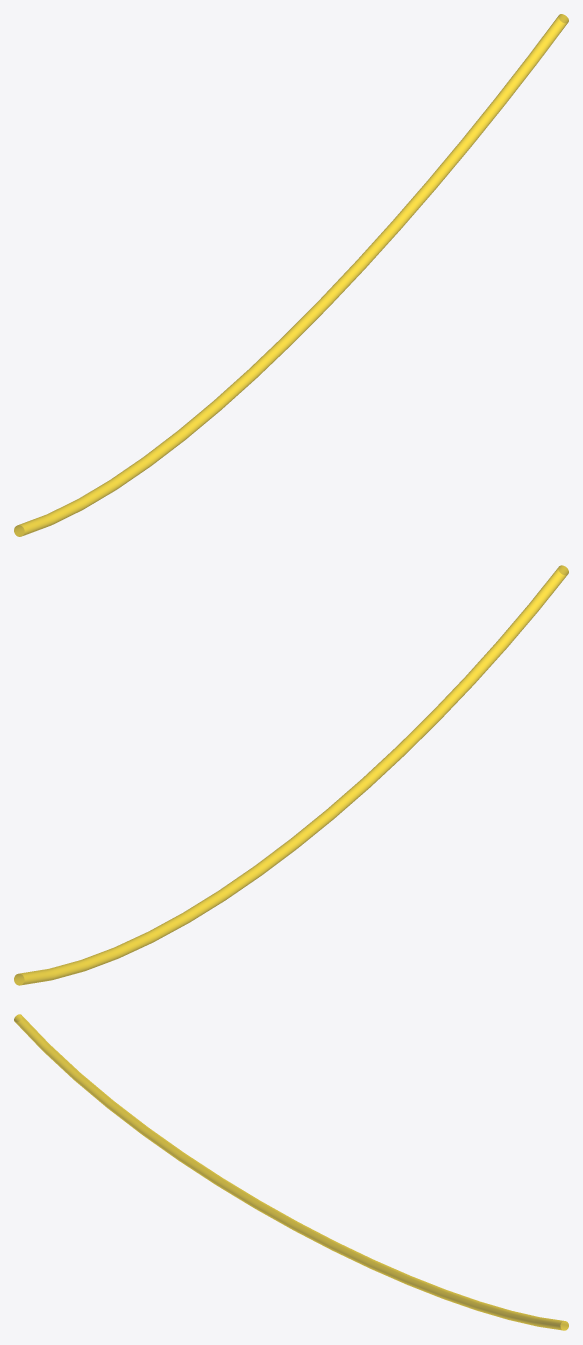
File: Event_27938768_track_80.fbx
3 views of the same model, one above another, from view 1: azimuth 30°, elevation 25°; view 2: azimuth 210°, elevation 25°; view 3: azimuth 270°, elevation 25° (orthographic). The views are drawn at different scales.
Visible parts, largest first — view 1: Model; view 2: Model; view 3: Model.
Boxes of the visible parts, x1=… form: Model: x1=14, y1=14, x2=568, y2=536; Model: x1=14, y1=565, x2=568, y2=985; Model: x1=14, y1=1014, x2=568, y2=1330.
Size of the model in its own units: 3.41 by 0.3895 by 2.27.
